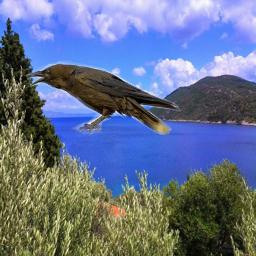Crow: (25, 60, 181, 135)
